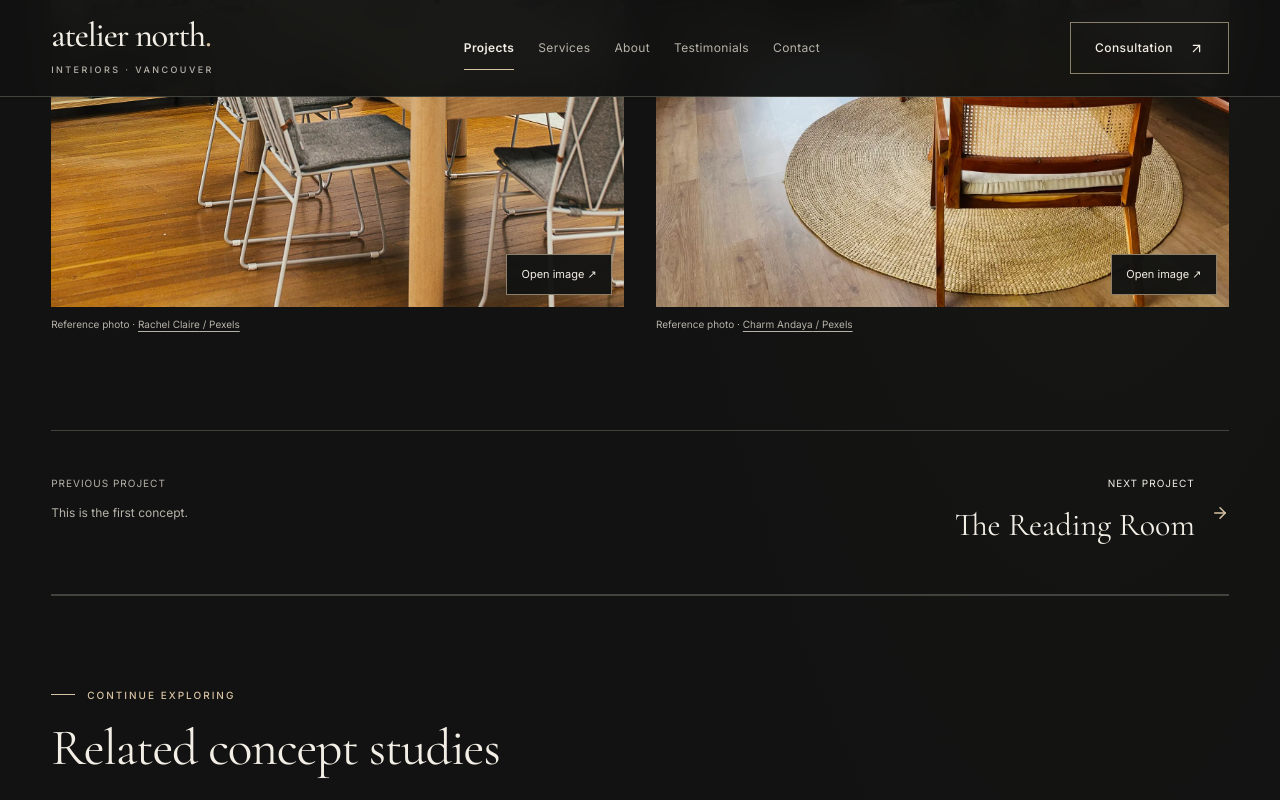
Test: updates project metadata after client navigation
The image size is (1280, 800).
(page scrolled)
Click the link with aria-label "Next project: The Reading Room" at (1092, 511), box left=955, top=477, right=1229, bottom=544
(page scrolled)
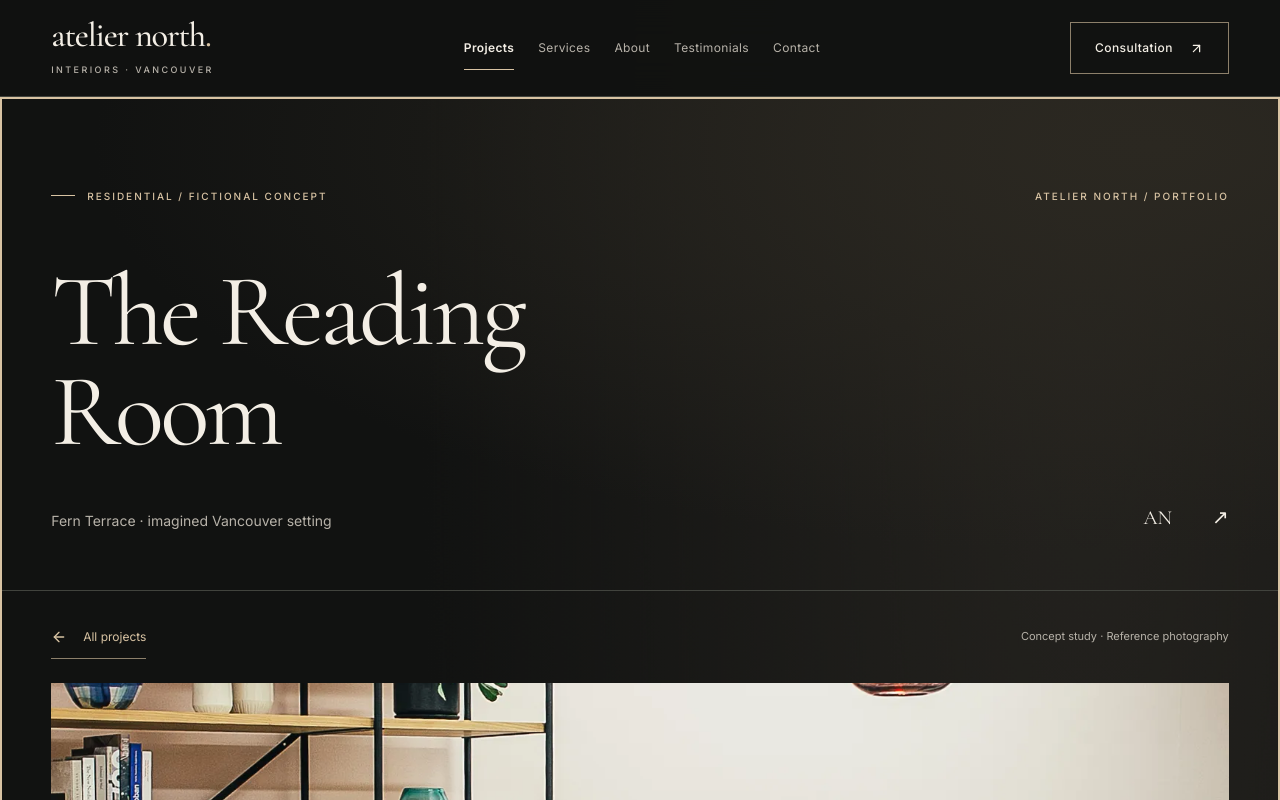
Check: the heading "The Reading Room" is shown, box left=51, top=249, right=524, bottom=473
